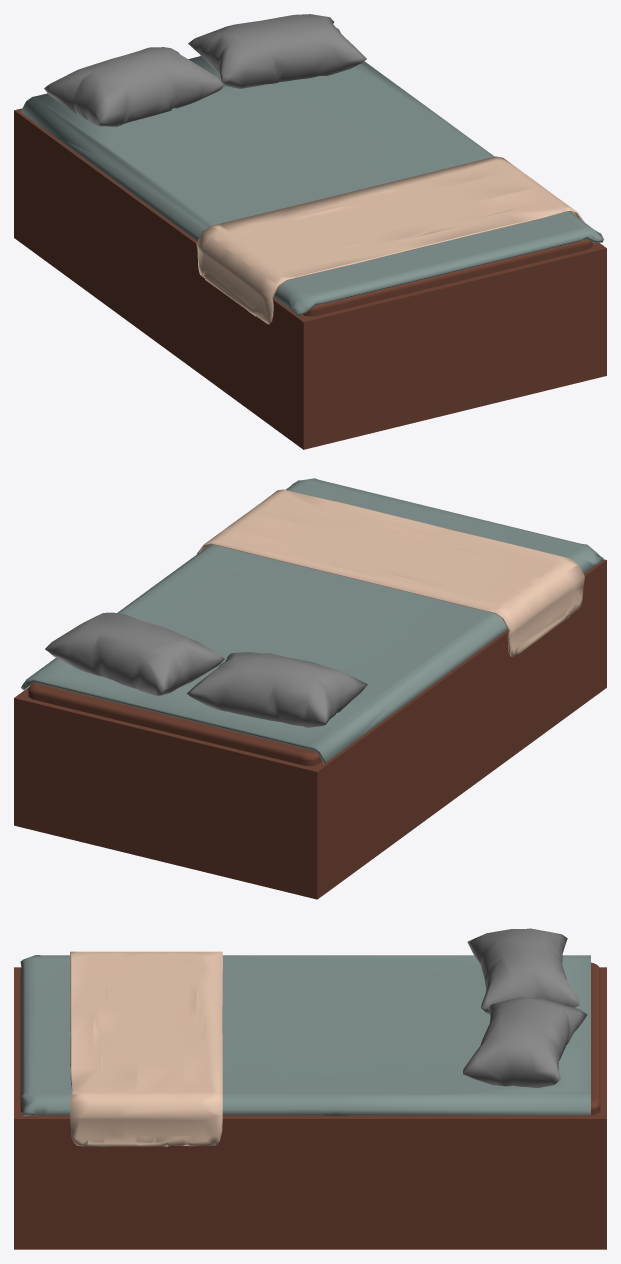
Rendered from Bed.fbx.
3 views of the same model, one above another, from view 1: azimuth 30°, elevation 25°; view 2: azimuth 150°, elevation 25°; view 3: azimuth 270°, elevation 25° (orthographic). The views are drawn at different scales.
Visible parts, largest first — view 1: Base.001; view 2: Base.001; view 3: Base.001.
Boxes of the visible parts, x1,y1,x2,y2 form: Base.001: [14, 14, 606, 449]; Base.001: [14, 478, 606, 899]; Base.001: [14, 928, 606, 1249].
Bounding box in the file's own units: 318 × 182 × 506.
